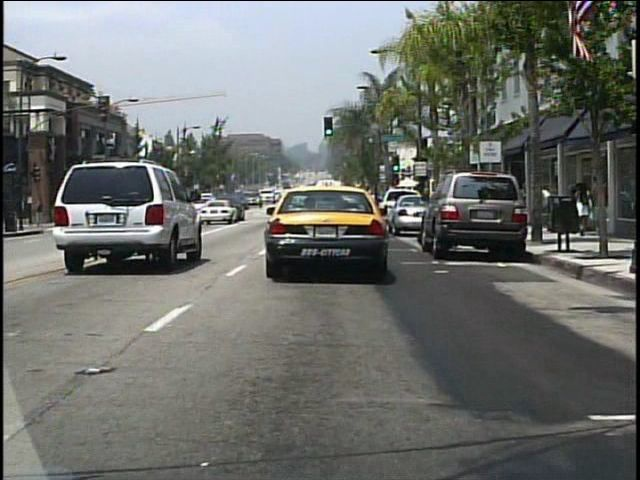person: (570, 179, 588, 234), (575, 180, 591, 237), (598, 172, 599, 233)
